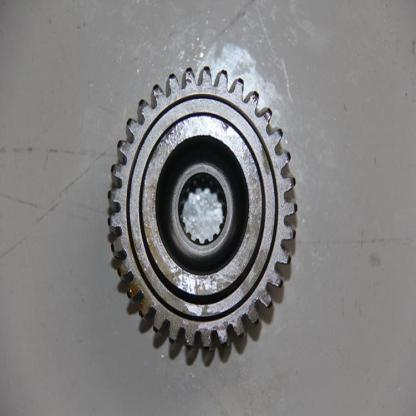FOD: (106, 60, 298, 366)
